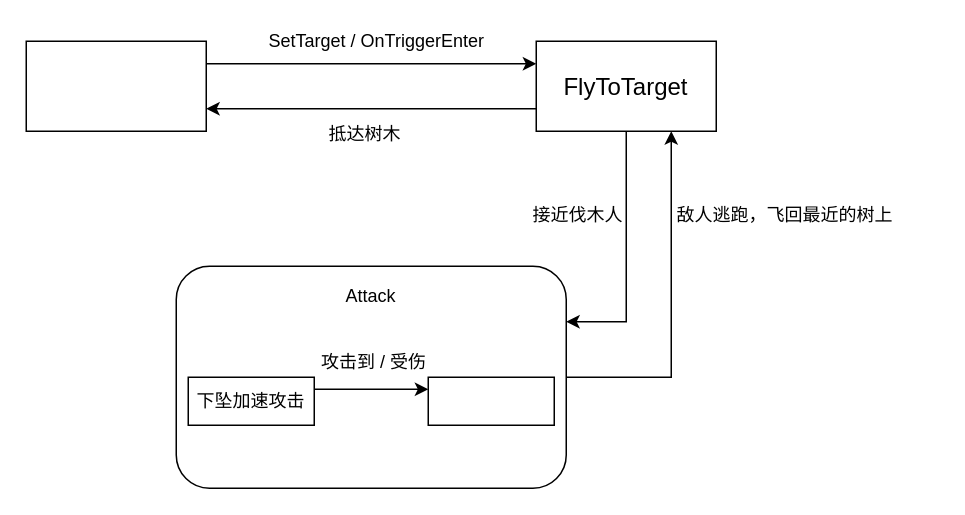
This 965x515 diagram has some shape labels left out. The shapes that lost their labels are listed below. From the top down, each one's box as (x1, y1, x2, y2) in pixels, then its label:
(25, 40, 206, 131): Idle
(427, 376, 554, 425): 回退
